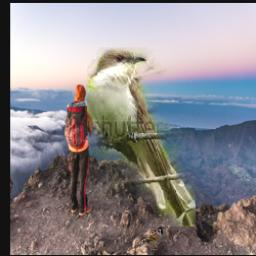Cuckoo: (87, 47, 196, 226)
Sparrow: (135, 224, 165, 251)
